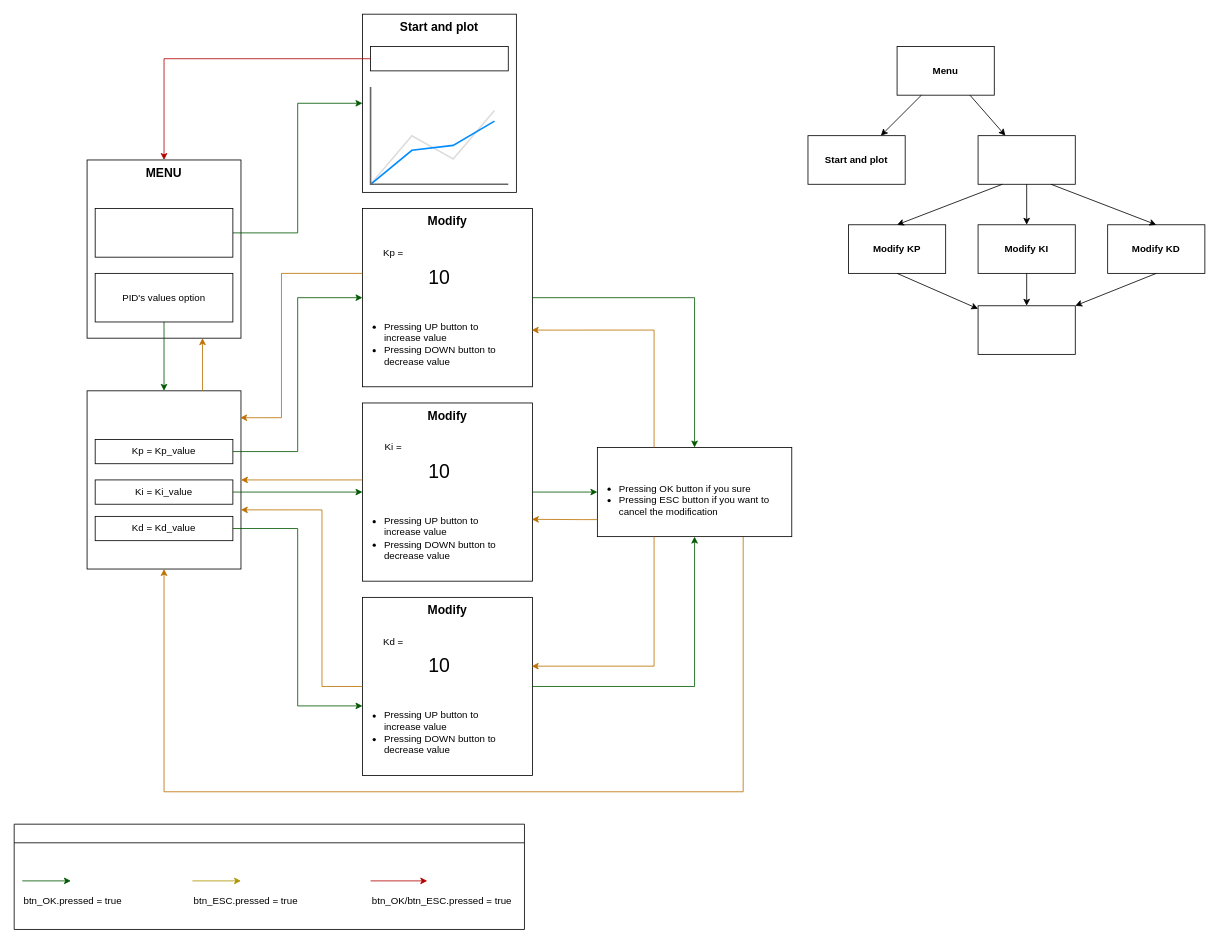
The diagram is 1219 pixels wide and 944 high, and some of its shapes have lost their labels. The box of each missing label's shape, as (x1, y1, x2, y2) in pixels:
Are you sure to set the value?: (597, 447, 792, 537)
Legend: (13, 823, 524, 929)
N otification: (977, 305, 1075, 354)
PID parameters: (977, 135, 1075, 184)
PID's values: (86, 390, 241, 569)
Start and plot option: (94, 208, 233, 257)
Stop: (370, 46, 508, 71)
